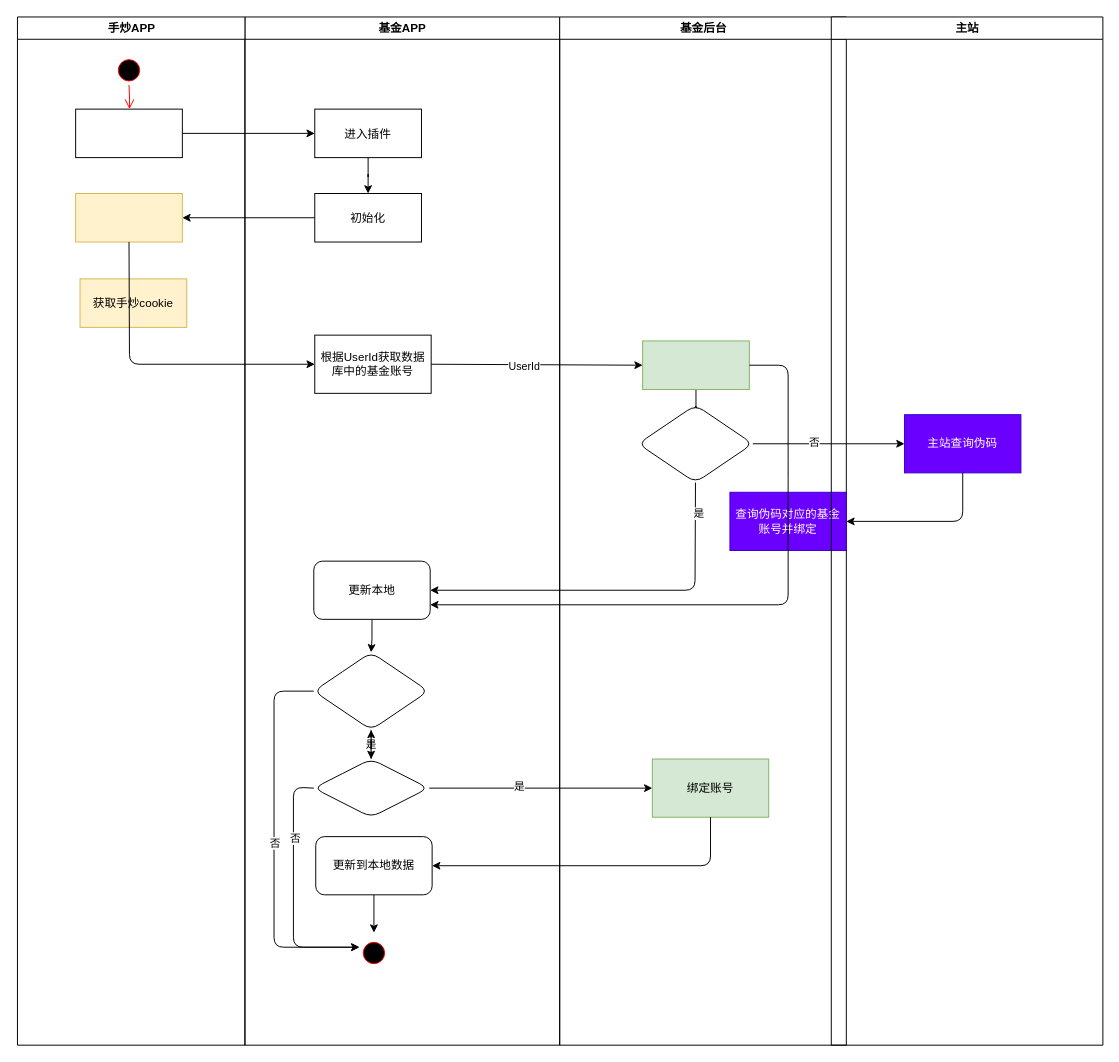
Some shapes in this 1119 by 1062 pixel diagram are drawn without their labels. Here are the shapes that lost their labels. From the top down, the centre of each, then its label:
At pixel 128 133: "进入手炒".
At pixel 128 217: "获取手炒账号".
At pixel 695 364: "查询UserId下绑定 基金账户".
At pixel 695 443: "是否有 基金账户".
At pixel 370 690: "是否第一次进入".
At pixel 370 787: "当前基金 是否登录".
